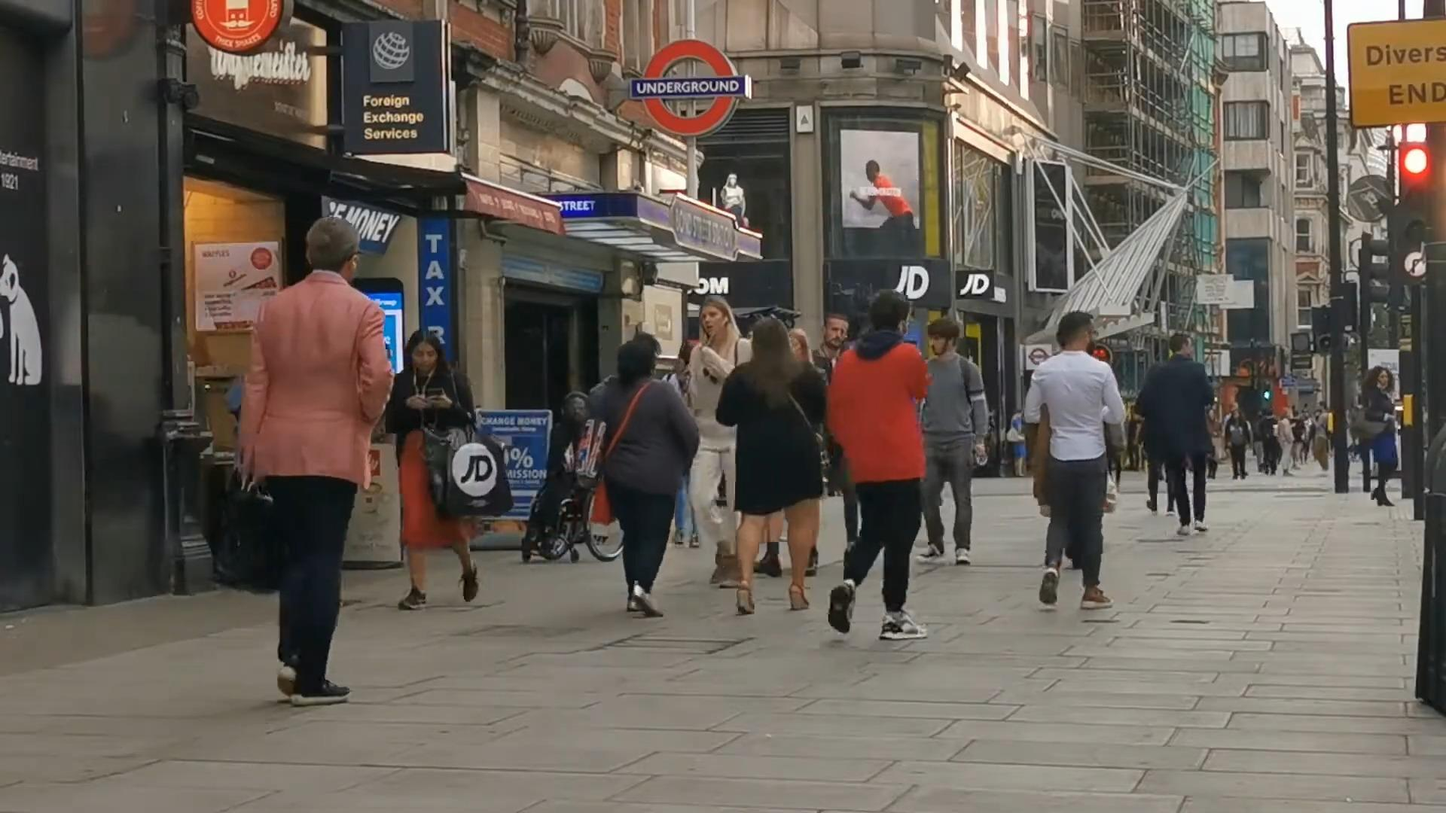no-helmet: (306, 216, 364, 284), (748, 317, 796, 372), (616, 339, 656, 398), (699, 295, 743, 341), (405, 329, 448, 375), (869, 290, 910, 338), (1058, 311, 1100, 356), (928, 317, 959, 358), (820, 312, 850, 351), (1361, 365, 1394, 390), (1170, 334, 1195, 358)
